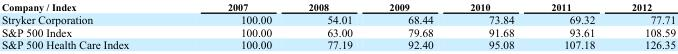table: (0, 0, 675, 50)
table column: (0, 0, 177, 50), (177, 0, 289, 50), (289, 0, 370, 50), (370, 0, 451, 50), (451, 0, 532, 50), (532, 0, 612, 50), (612, 0, 675, 50)
table column header: (0, 0, 675, 12)
table row: (0, 12, 675, 25), (0, 25, 675, 38), (0, 0, 675, 12), (0, 38, 675, 50)
